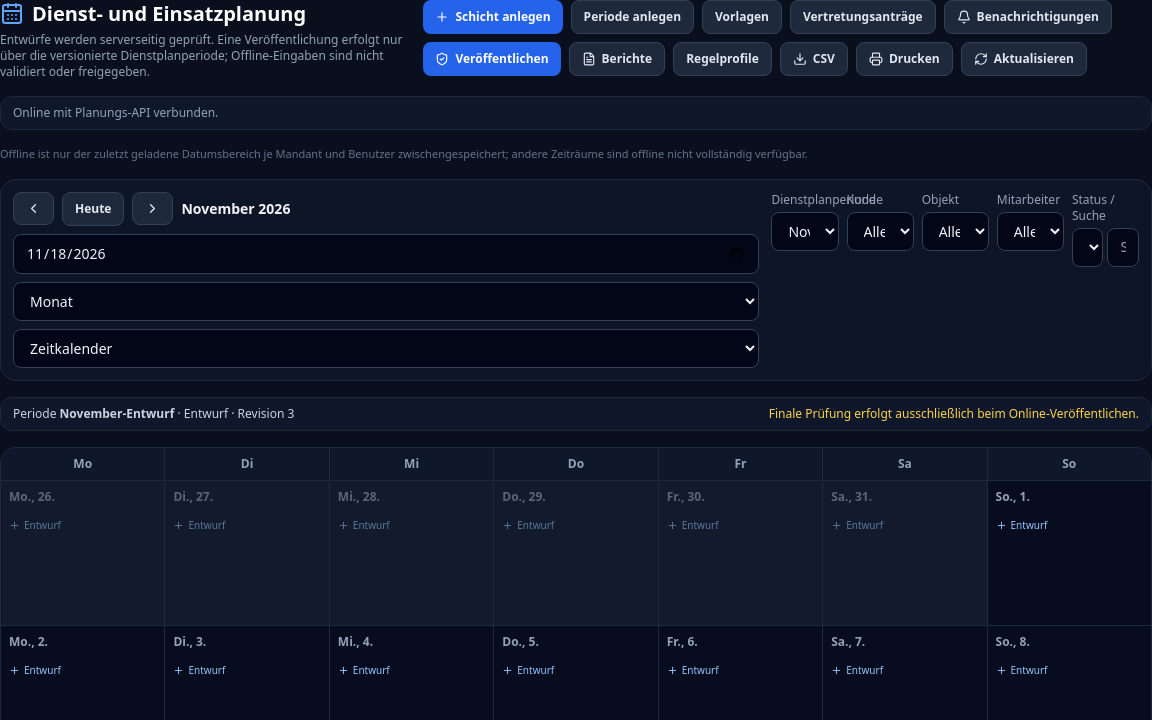
Test: RosterModule › shows report sections as empty or unavailable instead of inventing missing metrics
Click the button "Berichte".
click(617, 59)  # box [568,42,665,76]
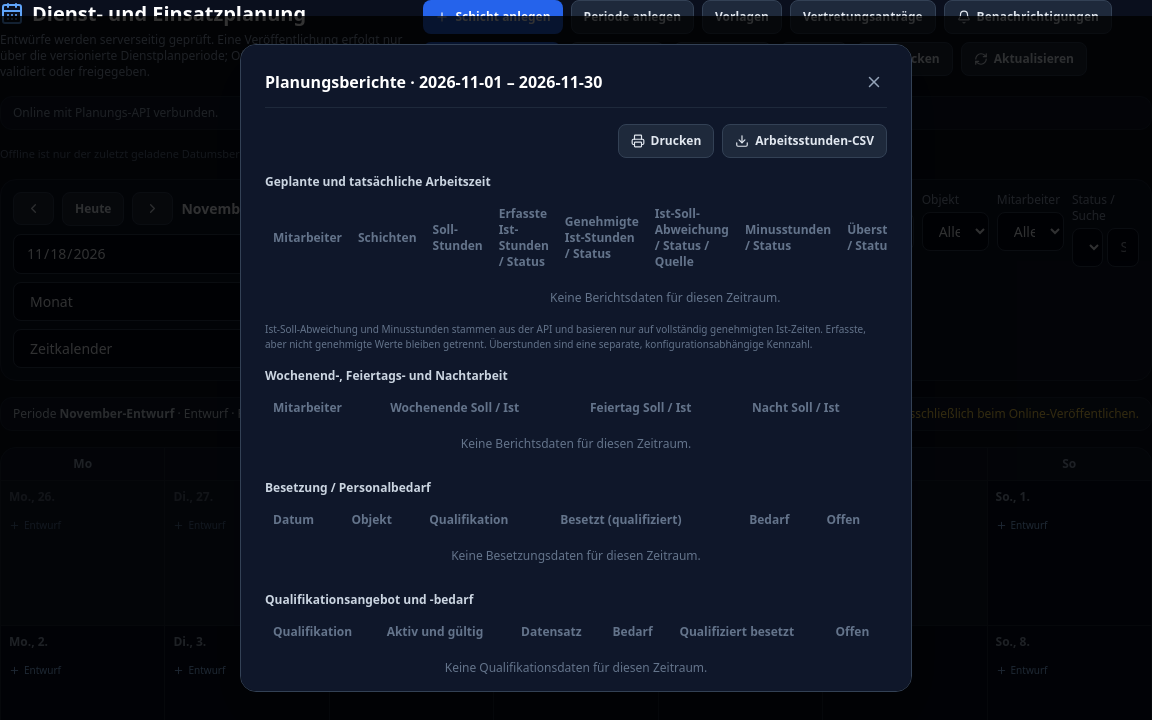
Check: the text "Keine Berichtsdaten für diesen Zeitraum." is shown, box [265,278,887,318]
Check: the text "Keine Besetzungsdaten für diesen Zeitraum." is shown, box [265,536,887,576]
Check: the text "Geplante und tatsächliche Arbeitszeit" is shown, box [265,173,491,190]
